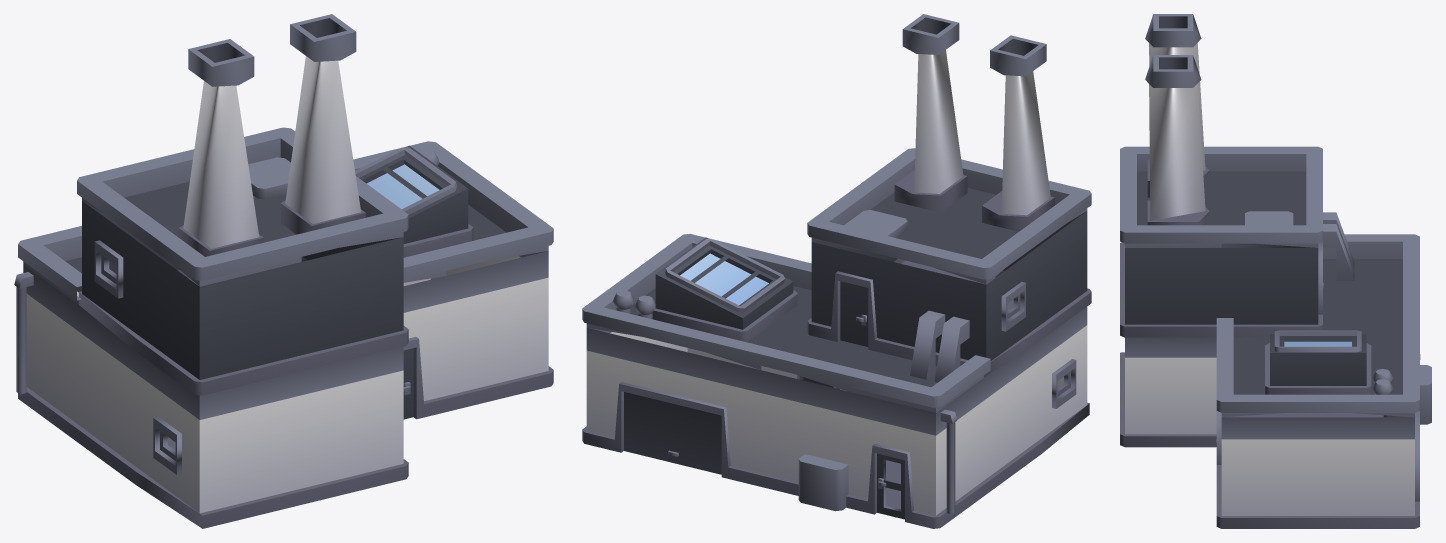
File: works-e.glb
3 renders of one model, left to right at view 1: azimuth 30°, elevation 25°; view 2: azimuth 150°, elevation 25°; view 3: azimuth 270°, elevation 25°, orthographic. The views are drawn at different scales.
Visible parts, largest first — view 1: building-e; view 2: building-e; view 3: building-e.
Part boxes in pixels (bbox=[...]): building-e: bbox=[14, 14, 553, 528]; building-e: bbox=[582, 14, 1091, 528]; building-e: bbox=[1120, 14, 1431, 528].
Bounding box in the file's own units: 1.68 × 1.65 × 1.29.
1 material, 1 textured.
